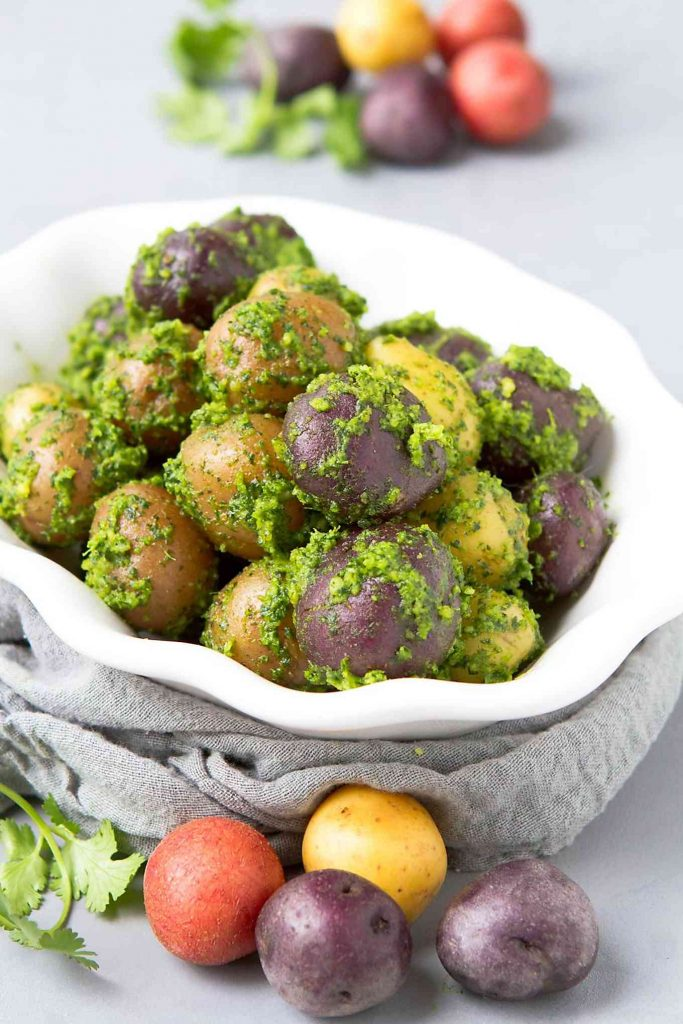boiled potatoes: (306, 511, 472, 674), (82, 470, 207, 633), (289, 363, 431, 506), (175, 409, 302, 553), (203, 303, 363, 405), (482, 356, 603, 486), (92, 319, 206, 444), (374, 336, 481, 463), (11, 411, 116, 530), (517, 486, 619, 597), (134, 228, 257, 320), (436, 464, 526, 587)
